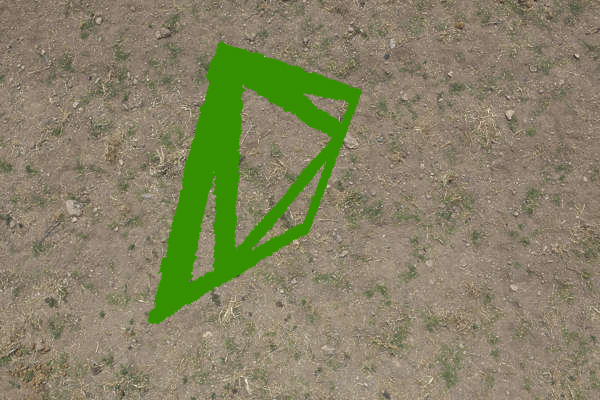marker: (141, 38, 370, 336)
